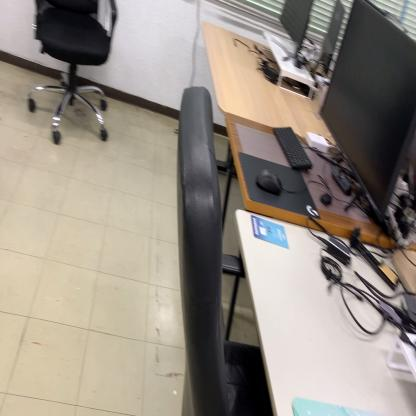chair: (174, 84, 276, 416), (26, 0, 121, 153)
